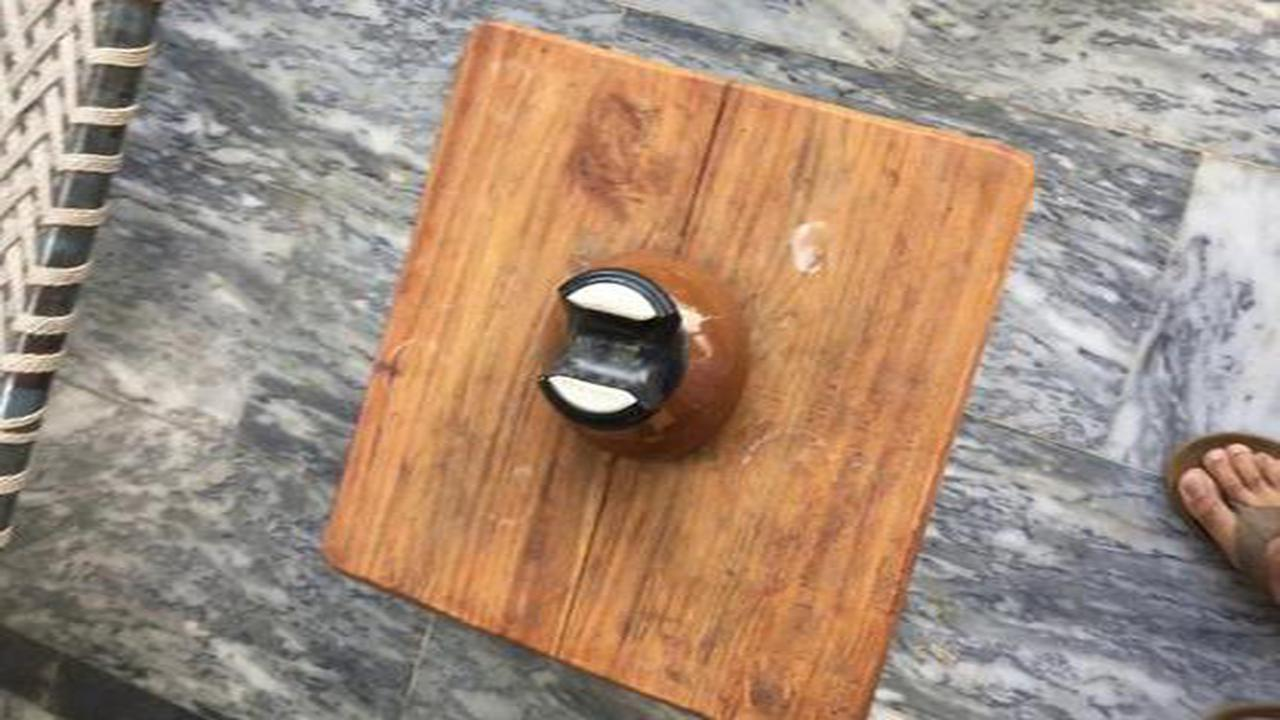insulator_pin: (517, 239, 773, 485)
